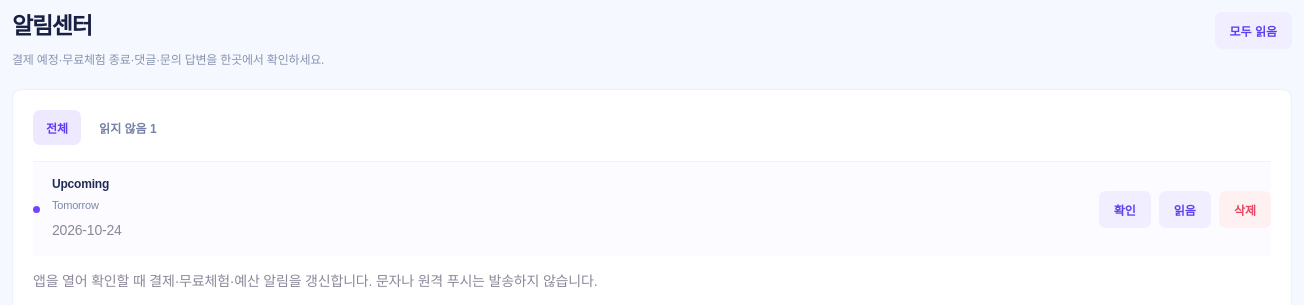
notifications support read all through the real endpoint
expect the text "Upcoming" is shown: met, box [52,177,109,191]
Click the button "모두 읽음" at x=1253, y=30, box [1214,12,1292,49]
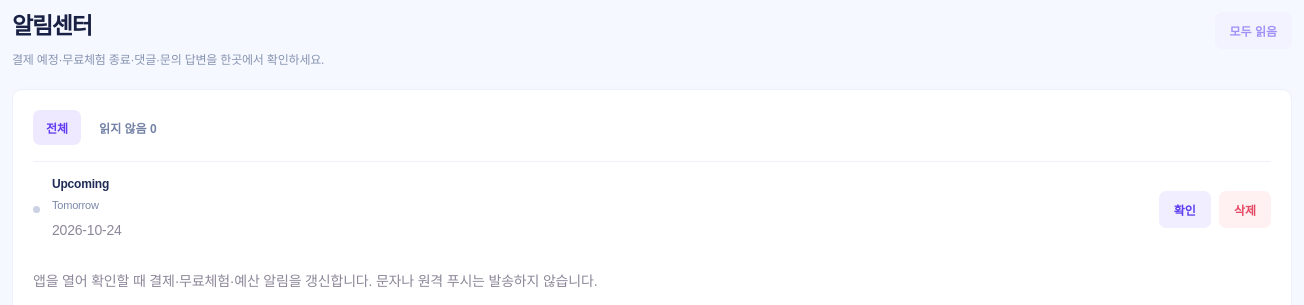
expect the button "읽지 않음 0" is shown: met, box [86,110,170,145]
